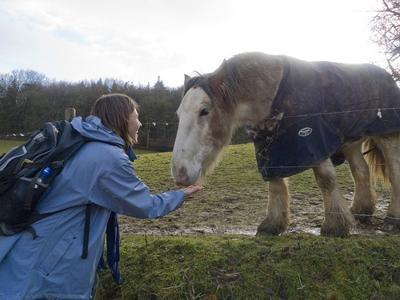person: (2, 94, 205, 300)
